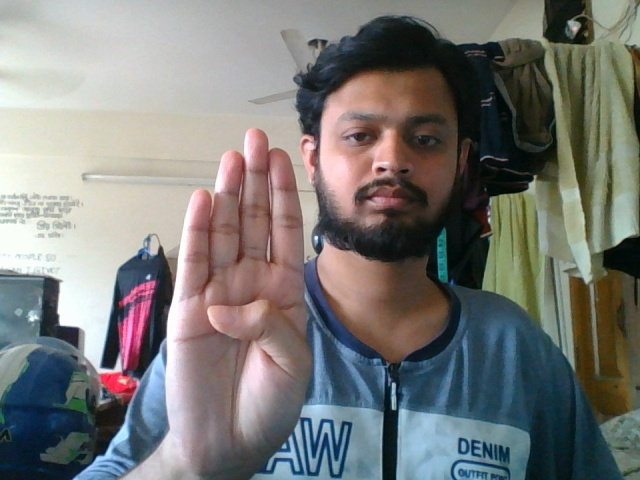ba: (158, 124, 319, 480)
